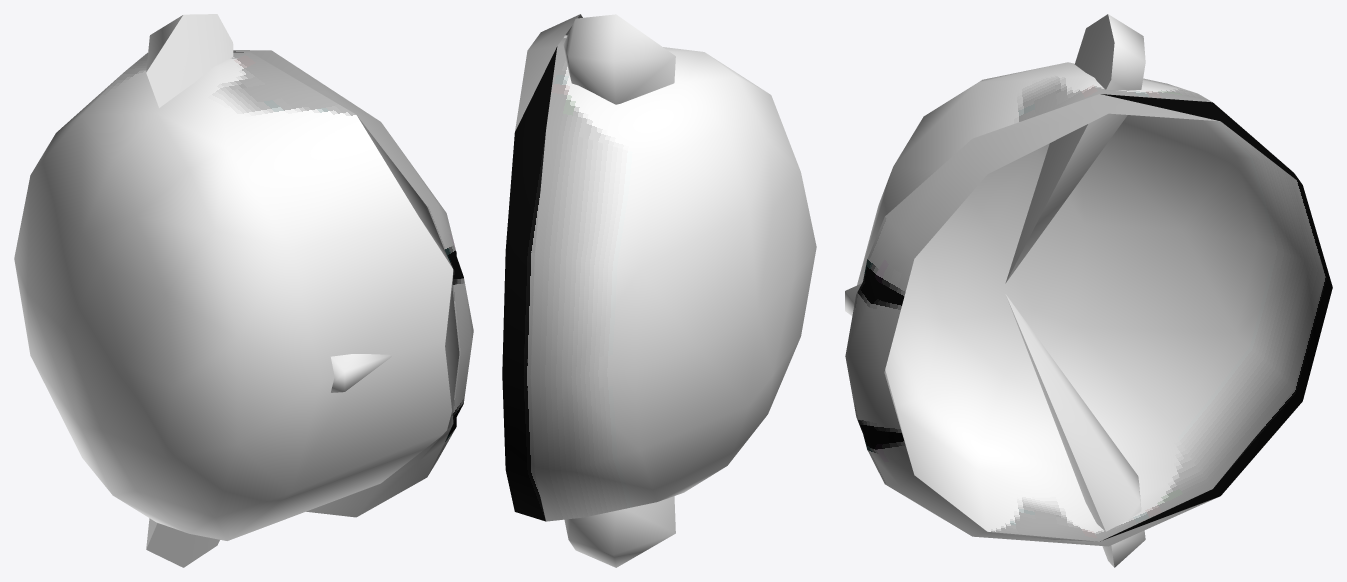
File: boy06b.dae
The picture shows the model from 3 angles, left to right: view 1: azimuth 30°, elevation 25°; view 2: azimuth 150°, elevation 25°; view 3: azimuth 270°, elevation 25°; orthographic projection.
Parts seen in each view (by area): view 1: boy06b; view 2: boy06b; view 3: boy06b.
Boxes of the visible parts, <box> form: boy06b: <box>14,14,473,567</box>; boy06b: <box>502,14,816,567</box>; boy06b: <box>845,14,1332,567</box>.
Size of the model in its own units: 15.51 by 26.71 by 21.59.
3 materials, 1 textured.
